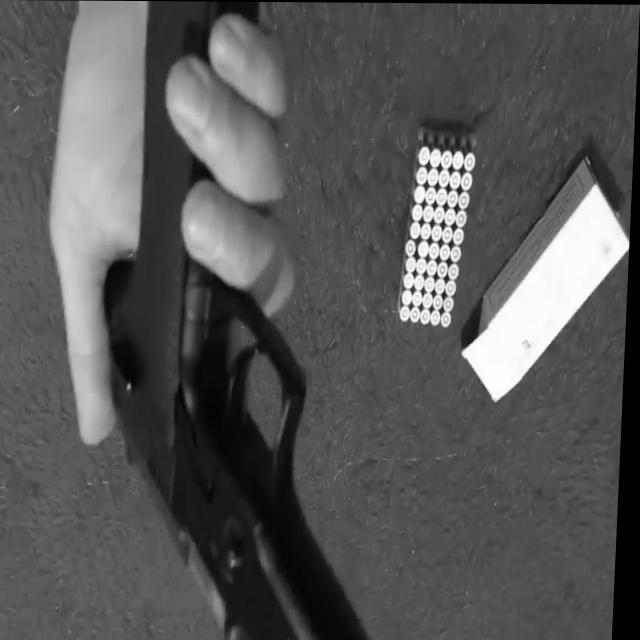handgun: (72, 1, 413, 640)
